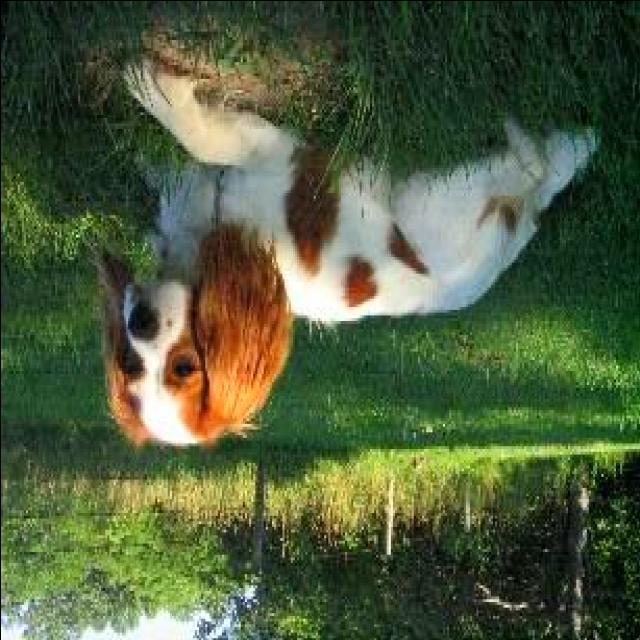blenheim_spaniel: (90, 41, 598, 454)
